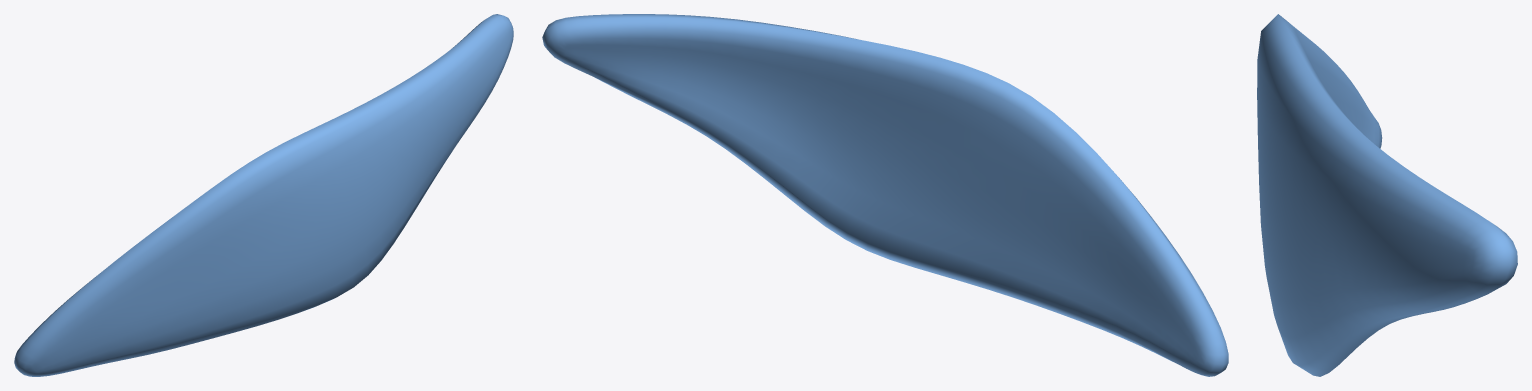
The model's file is cuban_side_filling.glb.
The picture shows the model from 3 angles, left to right: view 1: azimuth 30°, elevation 25°; view 2: azimuth 150°, elevation 25°; view 3: azimuth 270°, elevation 25°; orthographic projection. The views are drawn at different scales.
Visible parts, largest first — view 1: -fillside; view 2: -fillside; view 3: -fillside.
Part boxes in pixels (x1,y1,x2,y2): -fillside: (14,14,513,376); -fillside: (542,14,1228,376); -fillside: (1257,14,1517,376).
Bounding box in the file's own units: 0.1122 × 0.0419 × 0.0284.
